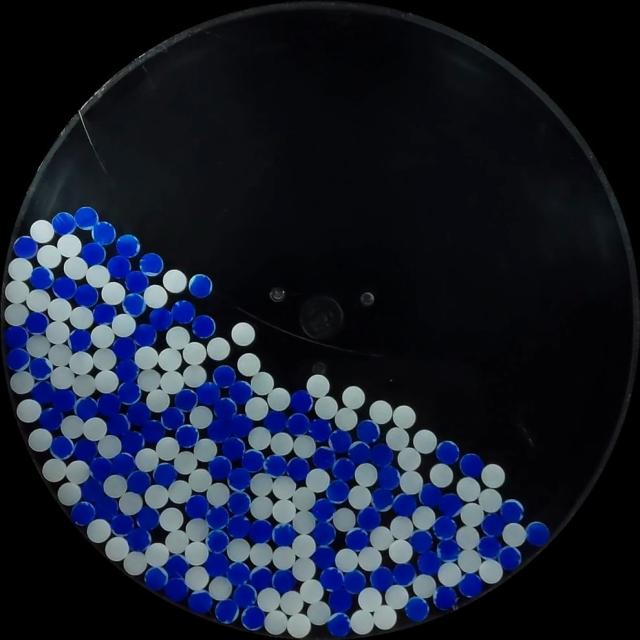pmmma-blanca: (286, 484, 318, 511), (250, 541, 277, 568), (245, 424, 271, 452), (64, 459, 91, 485), (182, 541, 210, 566), (334, 548, 362, 573), (456, 548, 482, 574), (165, 528, 191, 554), (46, 297, 72, 323), (455, 476, 481, 502), (286, 612, 312, 638), (9, 370, 35, 396), (278, 590, 304, 616), (305, 600, 331, 626), (44, 342, 70, 368), (7, 257, 34, 282), (94, 435, 122, 459), (271, 498, 297, 523), (298, 579, 324, 604), (186, 468, 212, 493), (82, 416, 108, 441), (349, 609, 374, 635), (454, 525, 480, 550), (4, 279, 30, 304), (104, 536, 130, 561), (291, 533, 316, 559), (16, 398, 42, 423), (267, 384, 290, 412), (356, 546, 381, 571), (144, 484, 169, 509), (459, 502, 484, 527), (182, 341, 207, 366), (69, 350, 94, 375), (90, 324, 115, 349), (388, 538, 413, 563), (86, 518, 111, 543), (237, 352, 262, 377), (154, 436, 180, 460), (304, 468, 330, 492), (396, 447, 422, 471), (264, 609, 288, 635), (410, 505, 436, 529), (25, 288, 51, 312), (500, 522, 526, 546), (158, 370, 184, 394), (159, 506, 183, 532), (50, 365, 76, 389), (36, 244, 62, 268), (60, 415, 86, 439), (270, 472, 294, 498), (398, 470, 424, 494), (157, 347, 182, 371), (144, 543, 169, 567), (101, 282, 126, 306), (134, 447, 159, 471), (46, 320, 70, 345), (272, 545, 296, 570), (145, 388, 170, 412), (4, 302, 29, 326), (69, 306, 94, 330), (162, 269, 187, 293), (428, 463, 453, 487), (411, 574, 436, 598), (369, 526, 394, 550), (480, 463, 504, 488), (250, 371, 274, 396), (249, 495, 273, 520), (478, 559, 503, 583), (193, 438, 218, 462), (436, 562, 461, 586), (27, 428, 52, 452), (412, 429, 437, 453), (57, 234, 82, 258), (478, 487, 502, 512), (188, 404, 213, 428), (172, 450, 197, 474), (186, 564, 210, 589), (390, 515, 414, 540), (56, 482, 82, 505), (182, 364, 208, 387), (29, 220, 55, 243), (330, 506, 356, 529), (348, 483, 371, 509), (386, 426, 409, 452), (384, 584, 408, 608), (314, 395, 338, 419), (231, 322, 255, 346), (341, 385, 365, 409), (64, 256, 88, 280), (208, 576, 232, 600), (86, 264, 110, 288), (206, 336, 230, 360), (256, 588, 280, 612), (368, 399, 392, 423), (357, 588, 381, 612), (26, 334, 50, 358), (270, 432, 294, 456), (334, 406, 358, 430), (169, 480, 193, 504), (111, 314, 136, 337), (92, 348, 117, 371), (134, 346, 159, 369), (373, 605, 396, 630), (356, 587, 381, 610), (72, 374, 97, 397), (143, 285, 167, 308), (103, 474, 127, 497), (244, 396, 268, 419), (306, 374, 330, 397), (354, 462, 377, 486), (136, 368, 159, 392), (226, 537, 250, 560), (165, 327, 190, 349), (292, 554, 314, 579), (392, 405, 415, 428), (94, 370, 118, 392), (118, 492, 142, 514), (250, 472, 272, 494), (292, 436, 315, 457), (43, 458, 64, 481), (123, 552, 146, 573), (293, 512, 317, 532), (186, 520, 210, 540), (206, 484, 229, 504)
